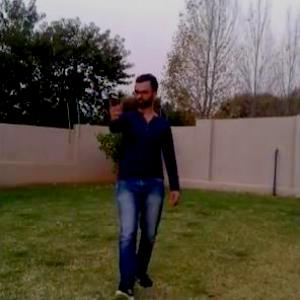takeoff-hand: (98, 88, 132, 128)
